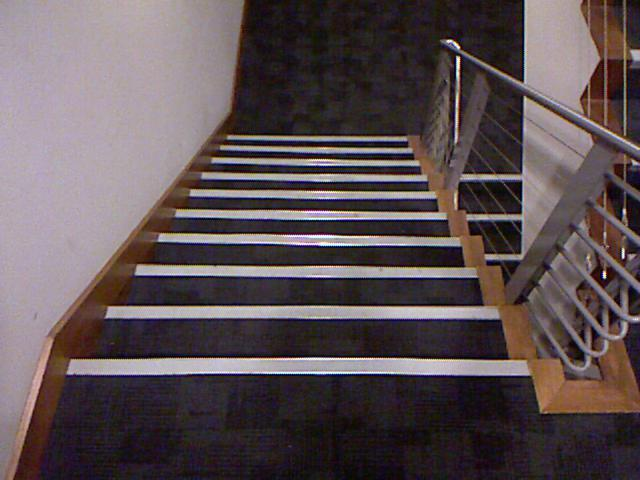Escaleras: (133, 120, 508, 381), (569, 16, 639, 344), (451, 146, 542, 313)
